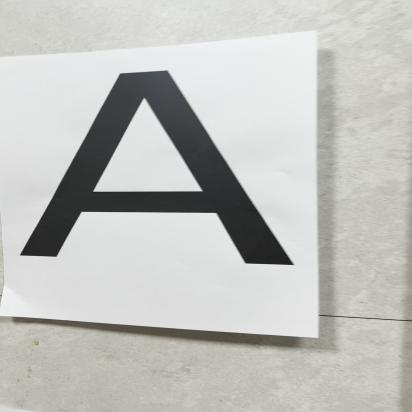seat: (10, 62, 306, 292)
